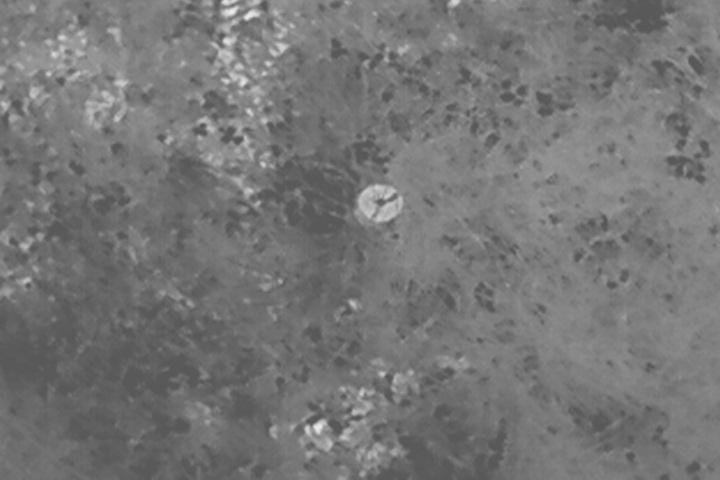landmine: (359, 183, 403, 223)
